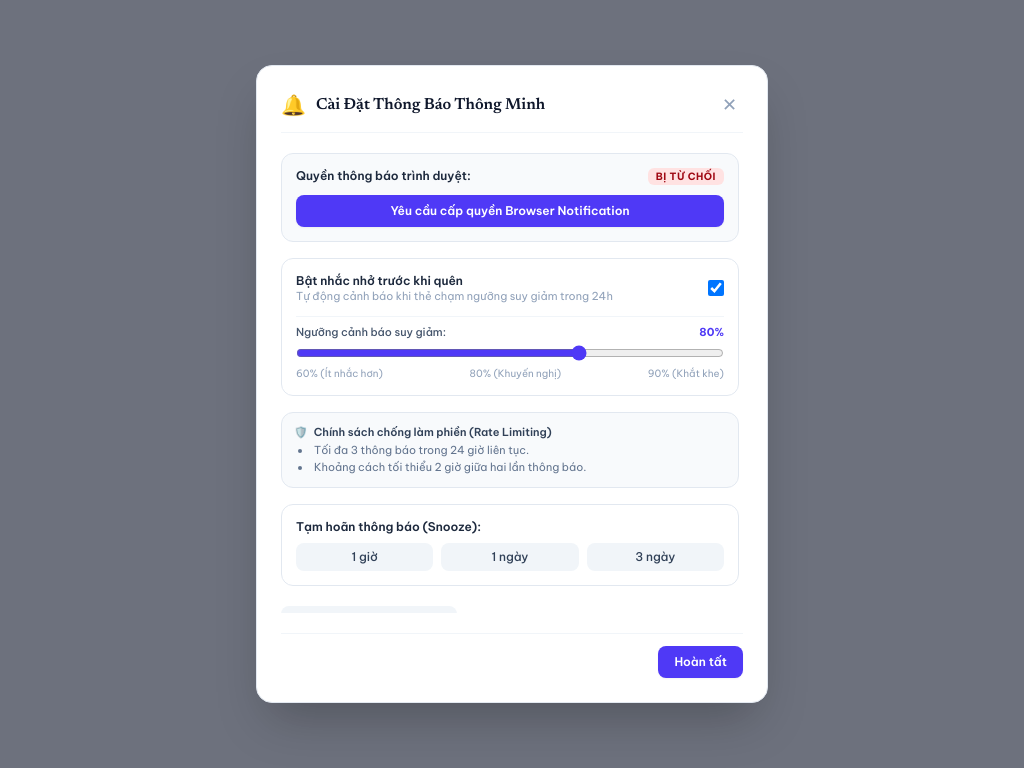
NotificationSettingsModal Component › allows toggling smart notifications and clicking snooze buttons
Click the checkbox with test id "toggle-smart-notifications": (716, 288) left=708, top=280, right=724, bottom=296
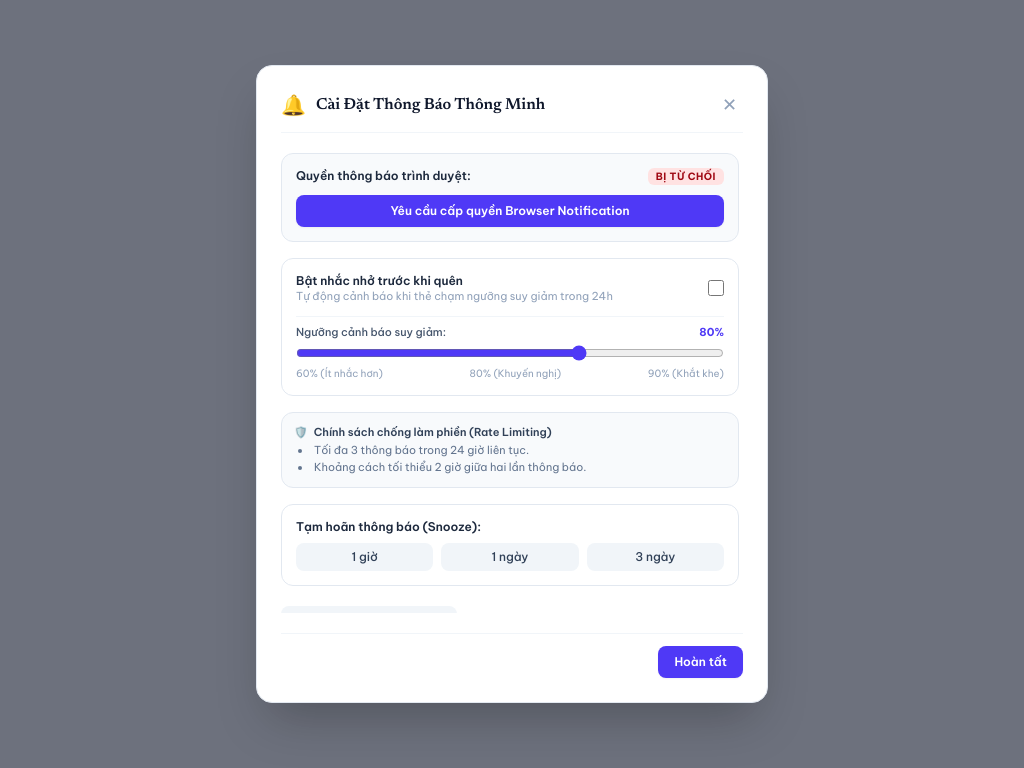
Check: the checkbox with test id "toggle-smart-notifications" is not checked, box left=708, top=280, right=724, bottom=296
// Click 1d snooze button
Click the button with test id "snooze-1d-btn": (510, 556) left=441, top=542, right=579, bottom=570
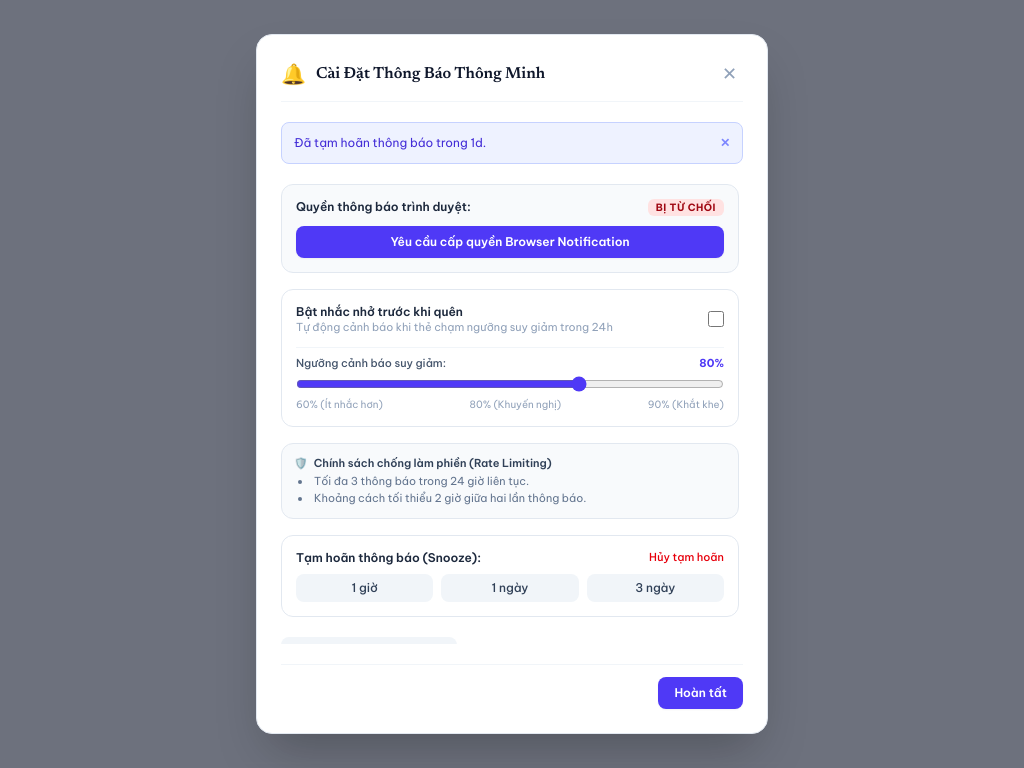
Check: the element with test id "notification-feedback-message" shows "Đã tạm hoãn thông báo", box left=294, top=135, right=486, bottom=150
